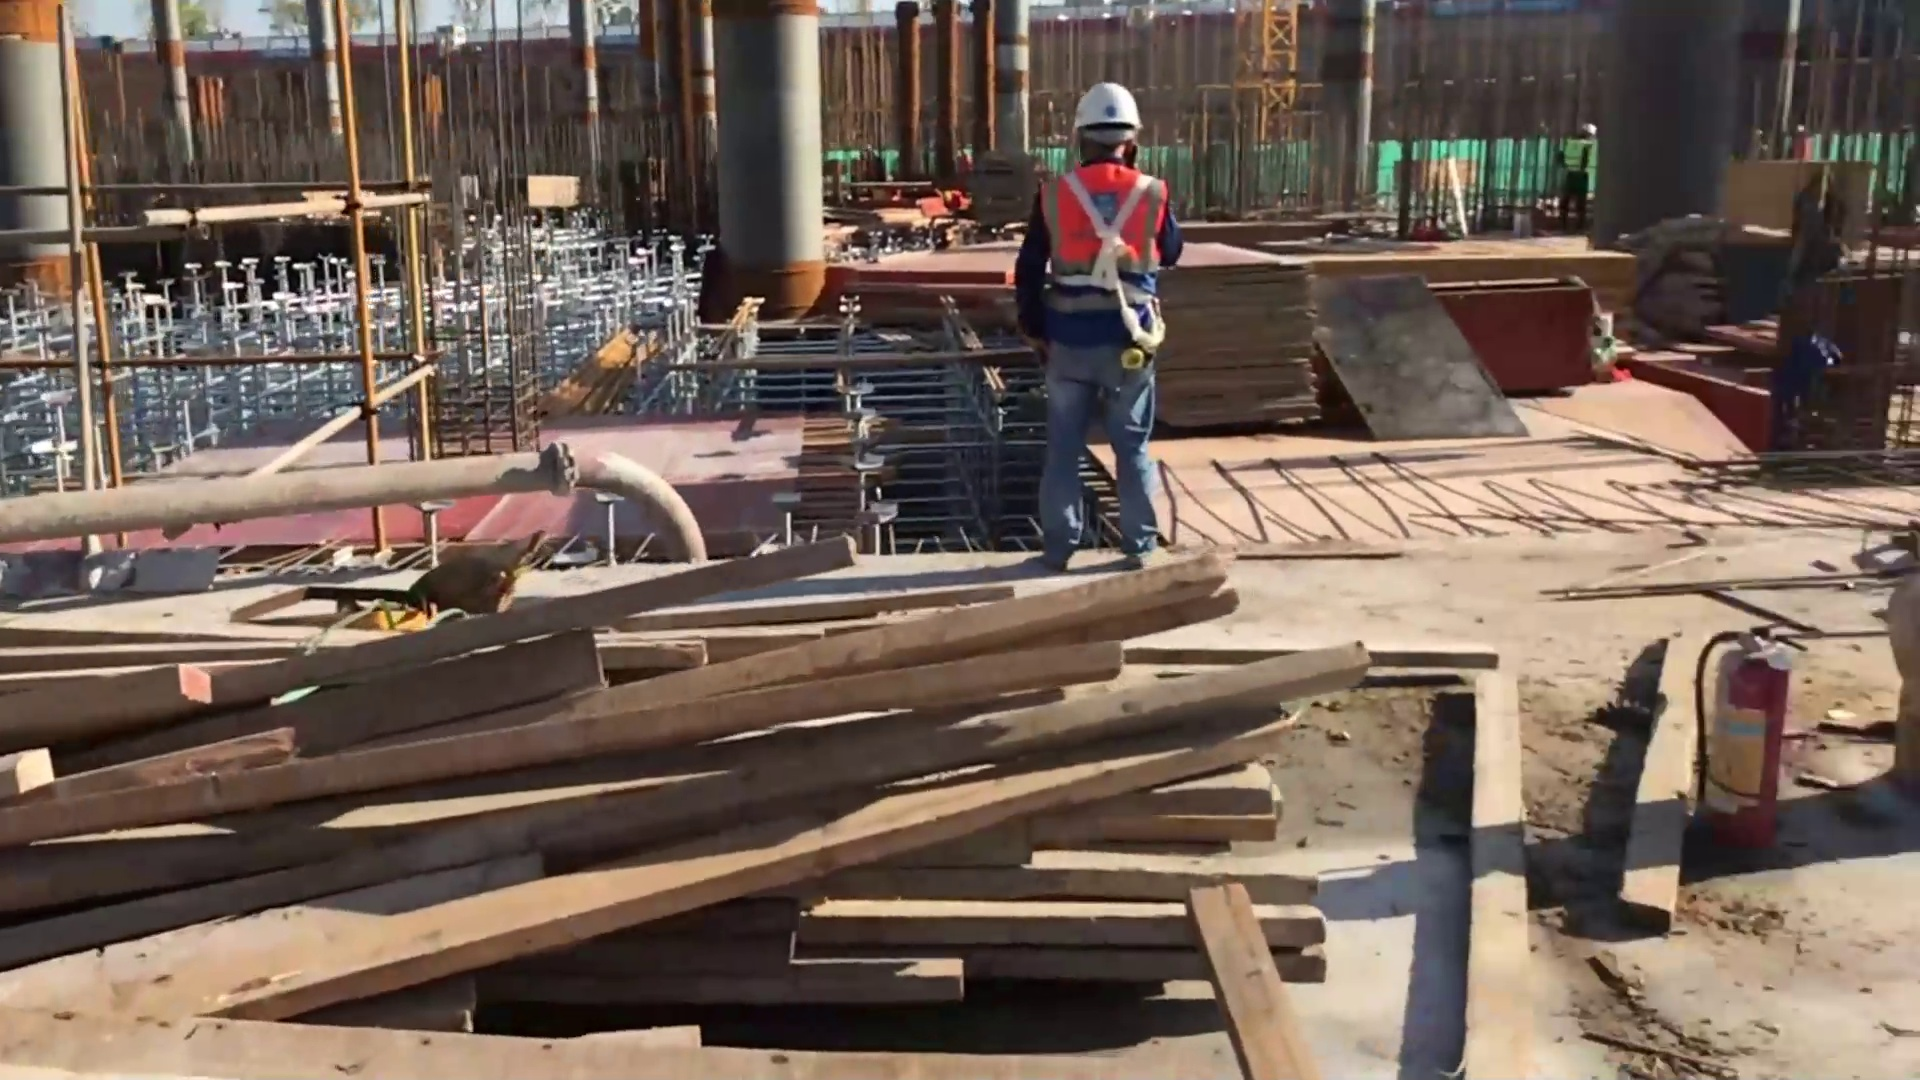board: (1176, 250, 1320, 435)
helmet: (1079, 79, 1135, 133)
person: (1029, 76, 1181, 568)
vest: (1037, 167, 1173, 340)
wood: (25, 510, 1373, 1080)
